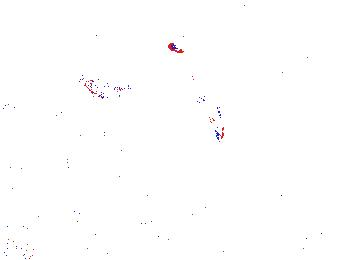glassfish: (188, 70, 226, 146)
red belly glassfish: (233, 66, 257, 81)
redtail glassfish: (82, 78, 126, 98)
